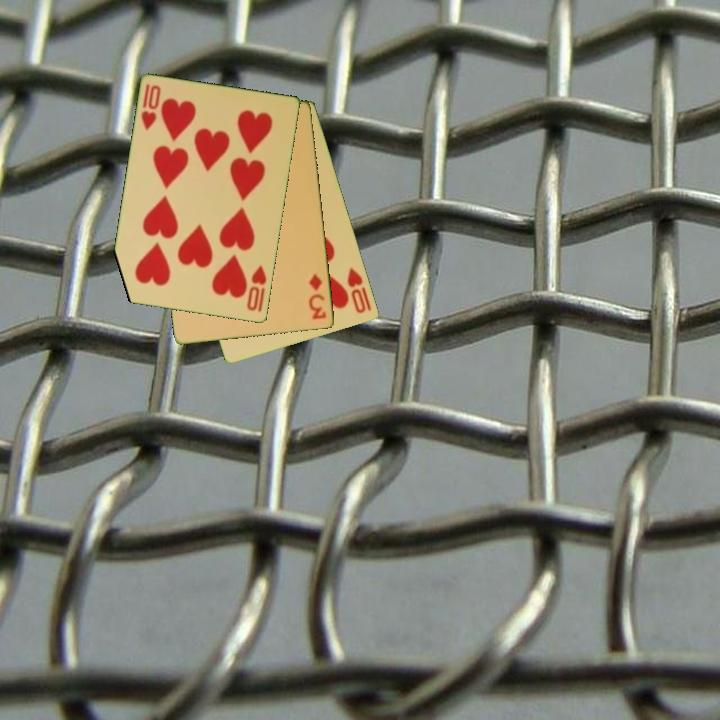10h: (344, 264, 375, 316), (243, 262, 270, 315), (138, 81, 164, 134)
3d: (306, 270, 329, 322)
